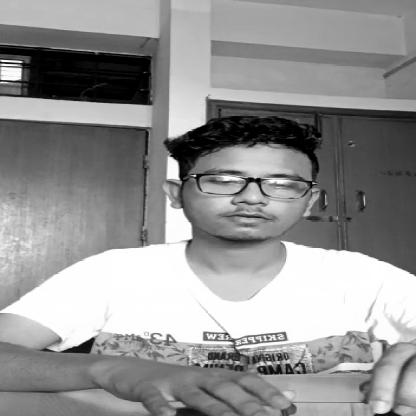Normal: (162, 140, 334, 247)
